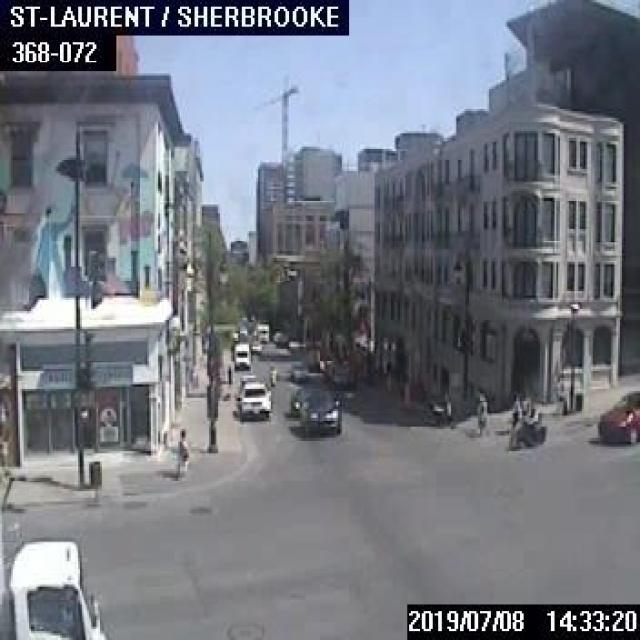pedestrian: (171, 427, 187, 477), (474, 393, 488, 434)
vehicle: (0, 478, 105, 638), (596, 386, 638, 446), (506, 393, 546, 449), (298, 388, 342, 434), (235, 380, 270, 418), (232, 342, 249, 368), (236, 374, 255, 396), (290, 386, 299, 415), (268, 362, 276, 389), (256, 322, 267, 340), (250, 341, 261, 352)
